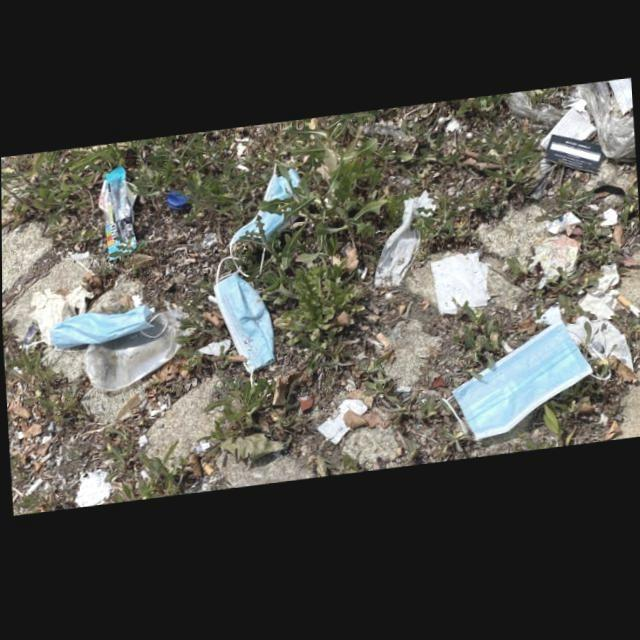food_wrapper: (98, 167, 138, 259)
